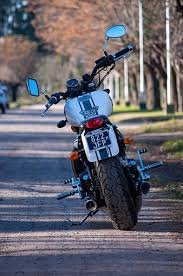motor: (37, 70, 157, 240)
